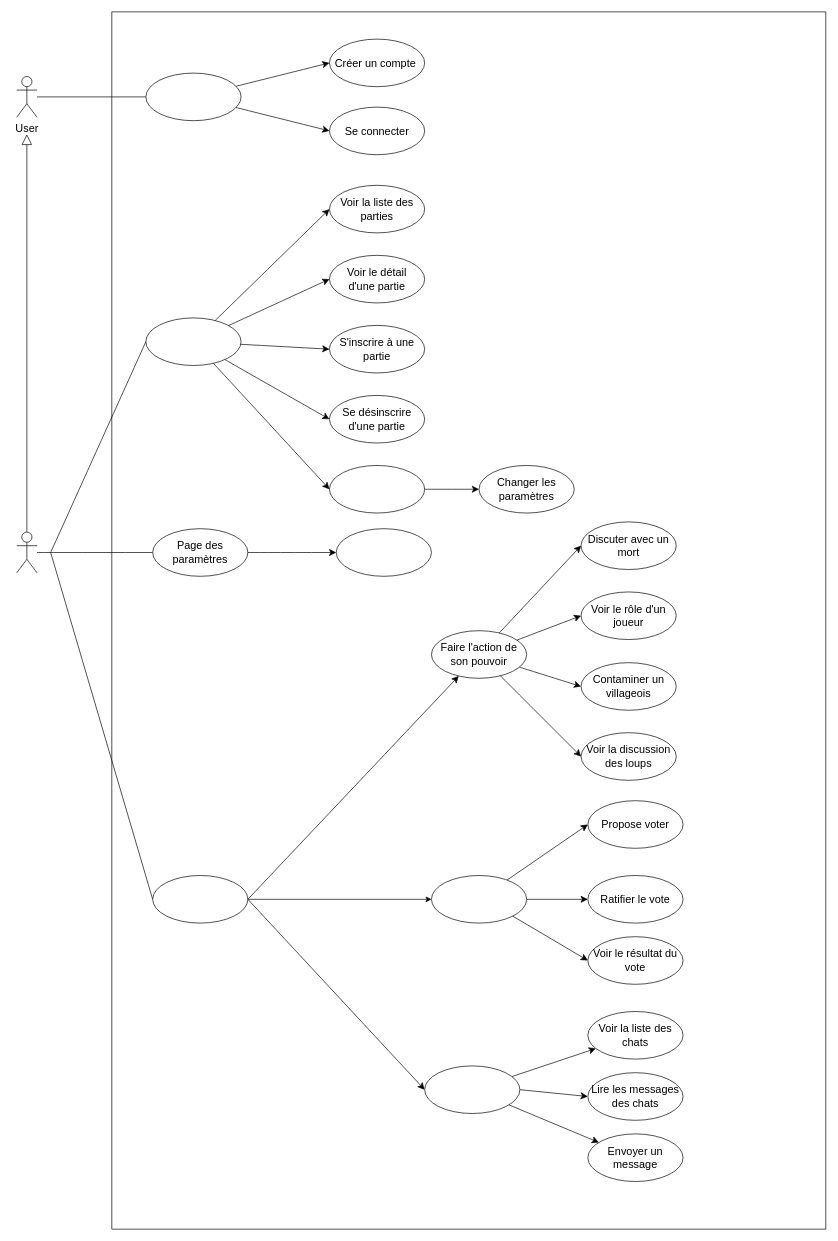
The diagram is 838 pixels wide and 1241 high, and some of its shapes have lost their labels. Each missing label, with the centre of its shape:
"Chat" goes at point 472,1089.
"Créer une partie" goes at point 377,489.
"Page de connexion" goes at point 193,96.
"Page des parties" goes at point 193,341.
"Page du jeux" goes at point 200,899.
"Player" goes at point 26,552.
"Se déconnecter" goes at point 383,552.
"Voter" goes at point 479,899.
